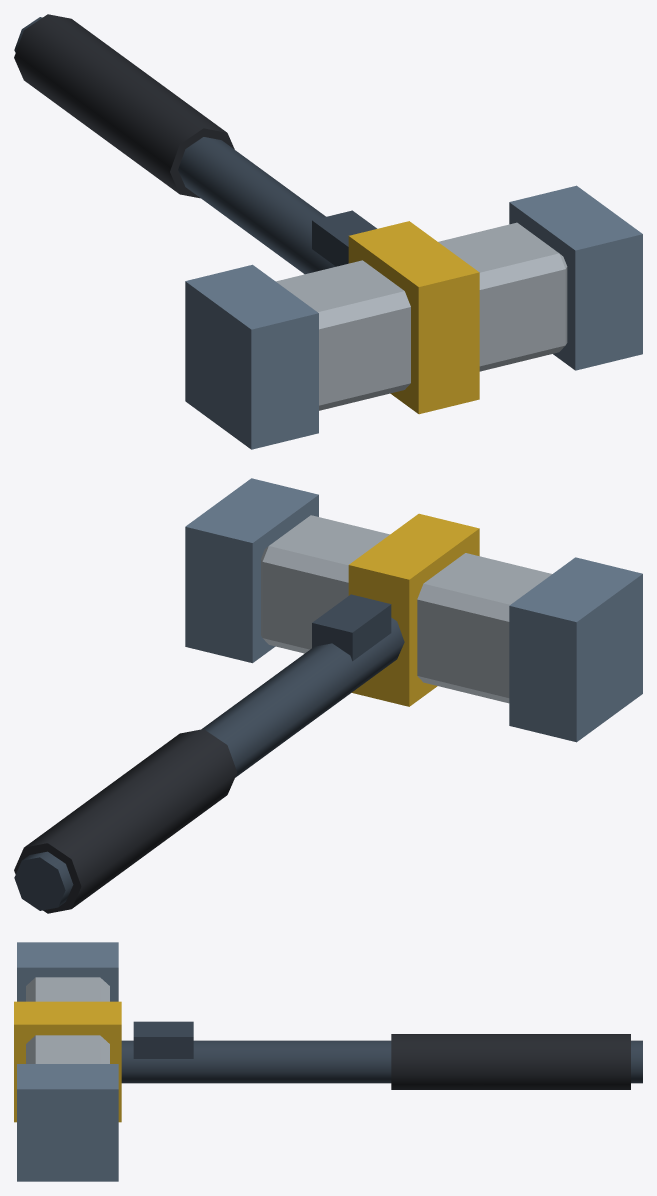
The picture shows the model from 3 angles, top to bottom: view 1: azimuth 30°, elevation 25°; view 2: azimuth 150°, elevation 25°; view 3: azimuth 270°, elevation 25°; orthographic projection. The views are drawn at different scales.
Parts seen in each view (by area): view 1: dweller_tool_hammer; view 2: dweller_tool_hammer; view 3: dweller_tool_hammer.
Boxes of the visible parts, box(x1,y1,x2,y2) form: dweller_tool_hammer: box(14, 14, 642, 449); dweller_tool_hammer: box(14, 478, 642, 913); dweller_tool_hammer: box(14, 942, 642, 1181).
Bounding box in the file's own units: 0.29 × 0.09 × 0.525.
